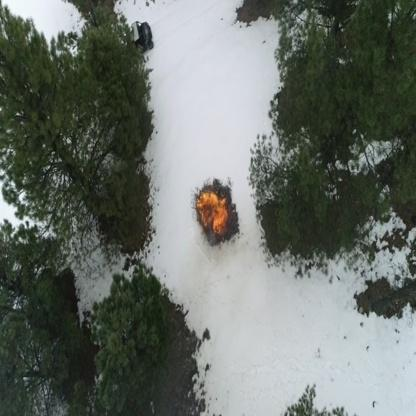Fire: (196, 189, 230, 241)
